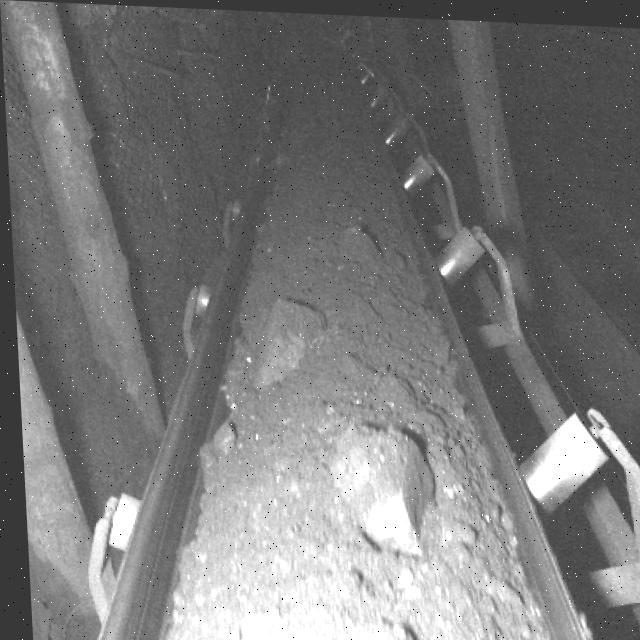large_sized_coal: (335, 424, 428, 553), (248, 291, 321, 393), (329, 217, 386, 263)
